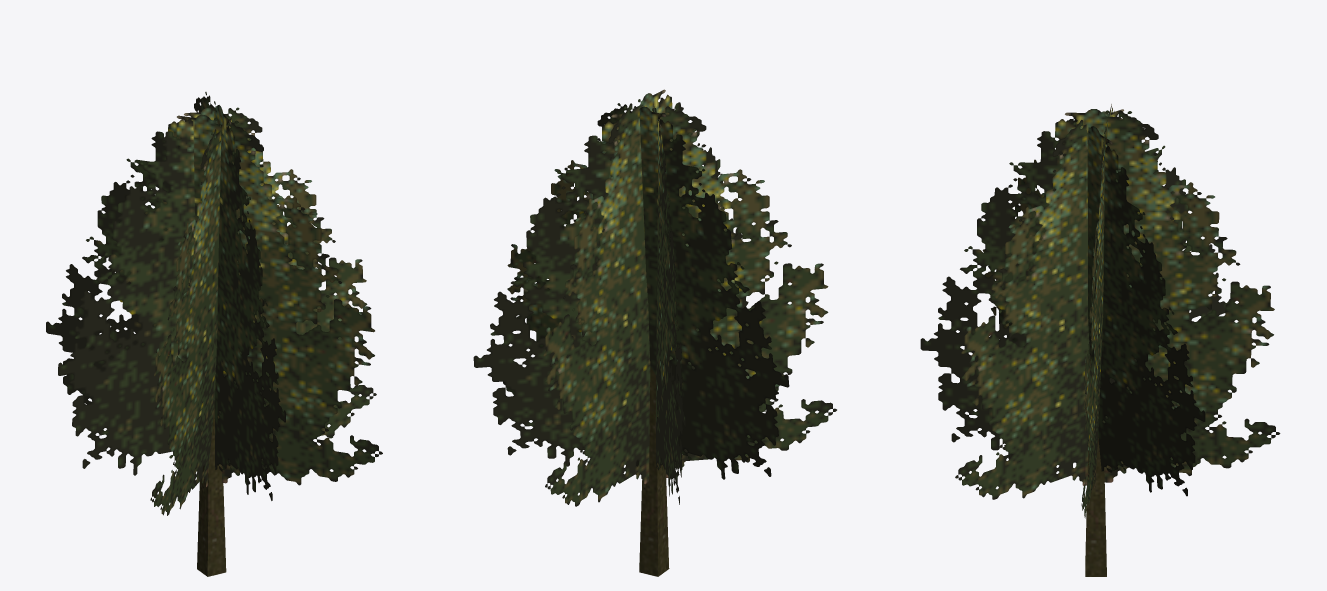
File: Tree_10.fbx
3 renders of one model, left to right at view 1: azimuth 30°, elevation 25°; view 2: azimuth 150°, elevation 25°; view 3: azimuth 270°, elevation 25°, orthographic. The views are drawn at different scales.
Parts seen in each view (by area): view 1: Tree.10; view 2: Tree.10; view 3: Tree.10.
Boxes of the visible parts, box(x1,y1,x2,y2) form: Tree.10: box(46, 92, 382, 576); Tree.10: box(473, 89, 836, 576); Tree.10: box(920, 104, 1280, 576).
Size of the model in its own units: 868 by 1123 by 895.
